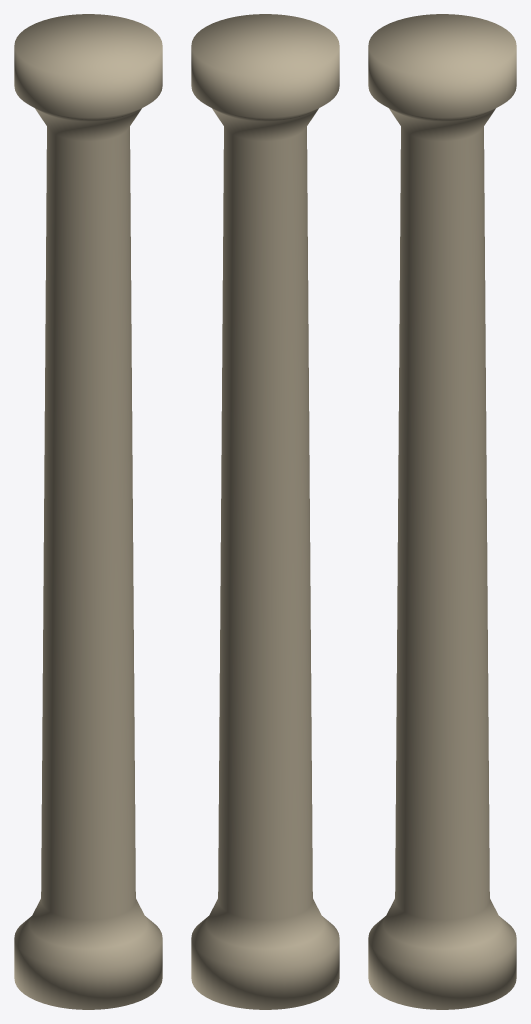
File: pillar.glb
3 renders of one model, left to right at view 1: azimuth 30°, elevation 25°; view 2: azimuth 150°, elevation 25°; view 3: azimuth 270°, elevation 25°, orthographic.
Visible parts, largest first — view 1: turned-pillar; view 2: turned-pillar; view 3: turned-pillar.
Part boxes in pixels (bbox=[...]): turned-pillar: bbox=[14, 14, 162, 1009]; turned-pillar: bbox=[191, 14, 339, 1009]; turned-pillar: bbox=[368, 14, 516, 1009].
Bounding box in the file's own units: 0.5 × 3.48 × 0.5.
